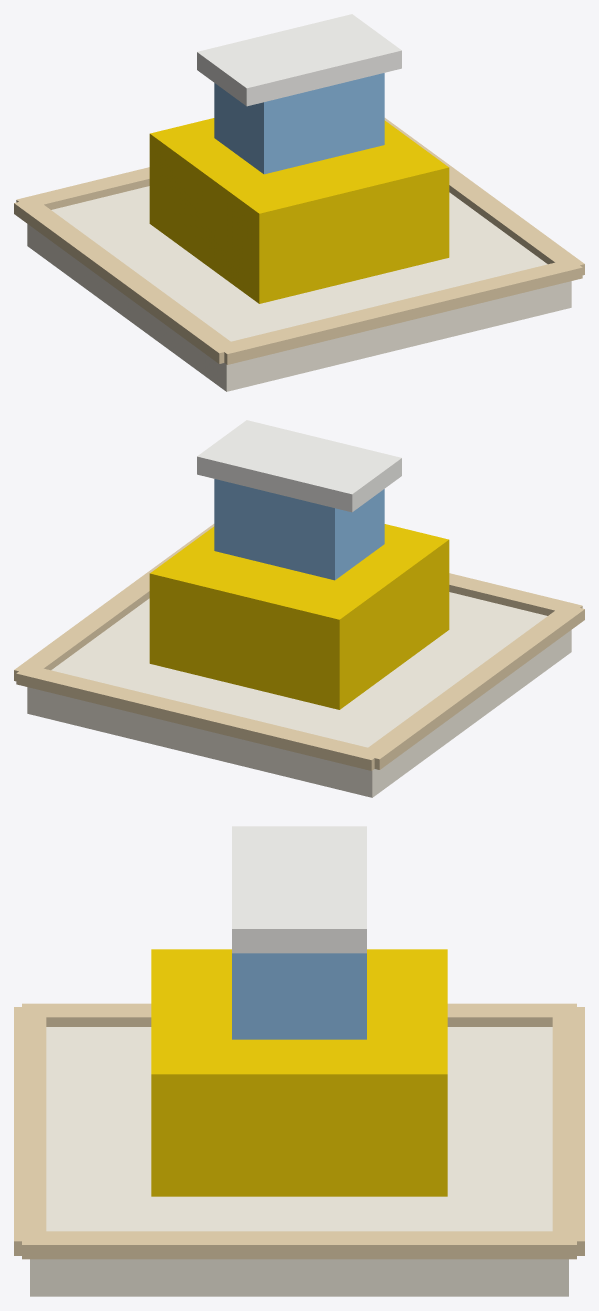
File: city.lost_and_found.glb
The picture shows the model from 3 angles, top to bottom: view 1: azimuth 30°, elevation 25°; view 2: azimuth 150°, elevation 25°; view 3: azimuth 270°, elevation 25°; orthographic projection. The views are drawn at different scales.
Visible parts, largest first — view 1: city.lost_and_found; view 2: city.lost_and_found; view 3: city.lost_and_found.
Part boxes in pixels (x1,y1,x2,y2): city.lost_and_found: [14, 14, 584, 391]; city.lost_and_found: [14, 420, 584, 797]; city.lost_and_found: [14, 826, 584, 1296].
Bounding box in the file's own units: 2.12 × 1.25 × 2.12.
